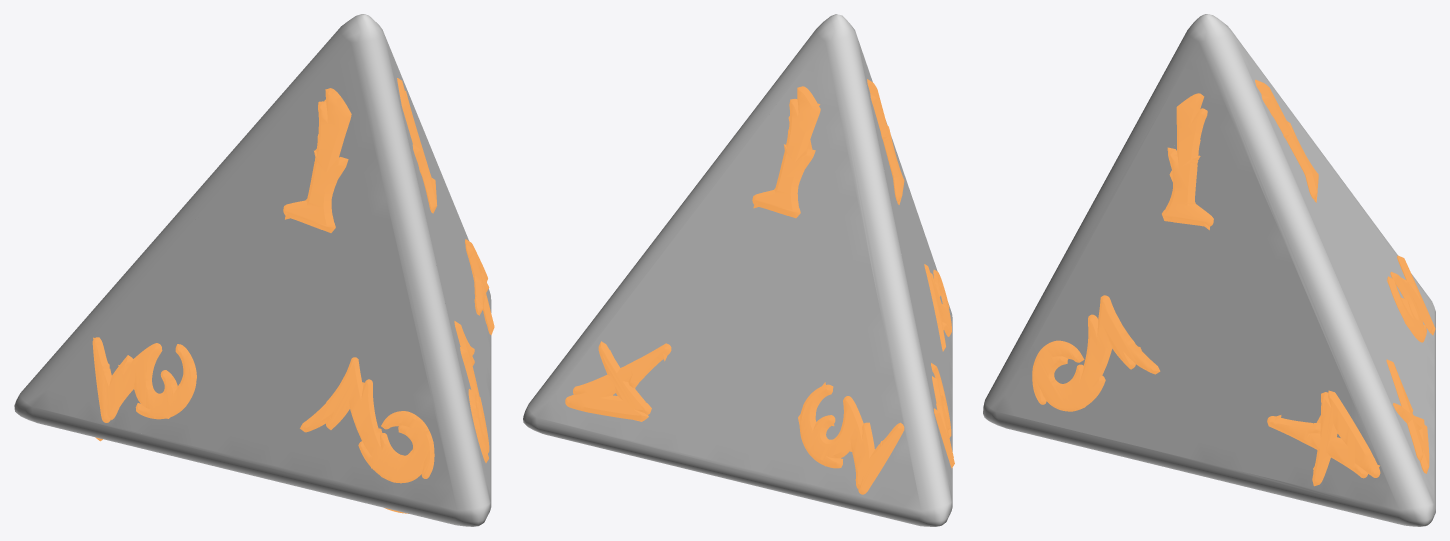
3 renders of one model, left to right at view 1: azimuth 30°, elevation 25°; view 2: azimuth 150°, elevation 25°; view 3: azimuth 270°, elevation 25°, orthographic. The views are drawn at different scales.
Visible parts, largest first — view 1: Cone; view 2: Cone; view 3: Cone.
Part boxes in pixels (x1,y1,x2,y2): Cone: (14, 14, 494, 526); Cone: (523, 14, 954, 526); Cone: (983, 14, 1435, 526).
Bounding box in the file's own units: 1.93 × 1.74 × 1.71.
